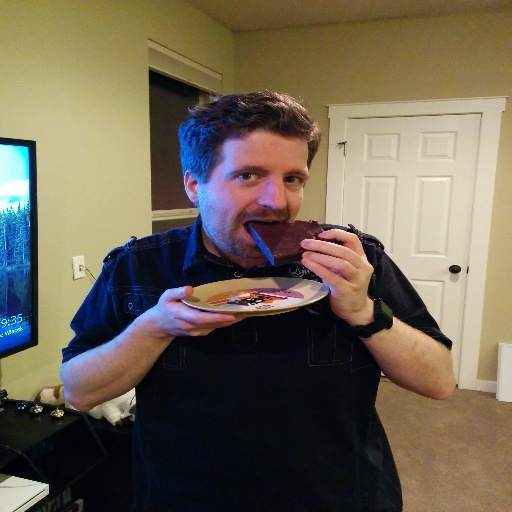hand: (275, 228, 402, 299), (148, 284, 249, 340)
